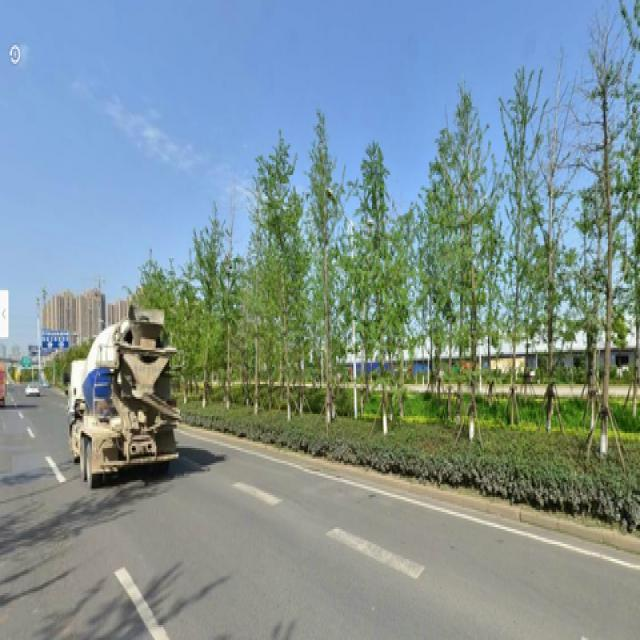gink: (567, 64, 625, 448), (441, 121, 499, 426), (258, 147, 302, 414), (507, 90, 541, 420), (308, 136, 347, 414), (364, 160, 400, 420), (209, 224, 236, 386)
